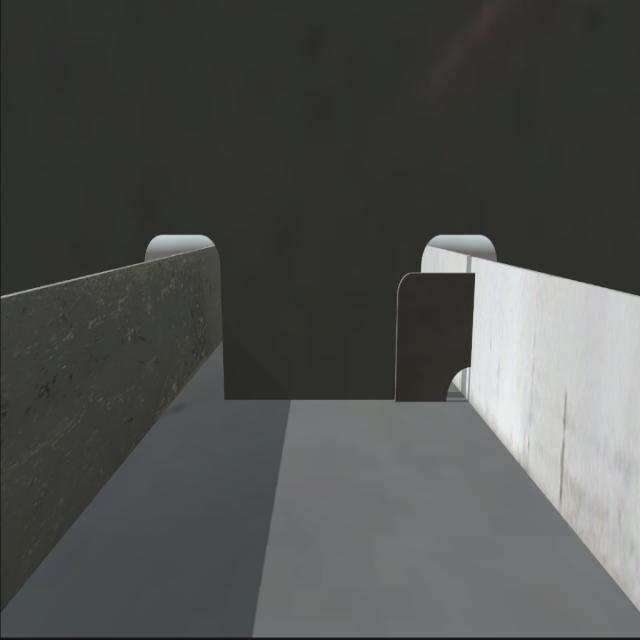fillet_hole: (448, 364, 473, 404)
fillet_yong_jeop_jang: (217, 387, 452, 413)
longi_yong_jeop_jang: (465, 260, 483, 374)
plate_CP05: (393, 270, 475, 404)
